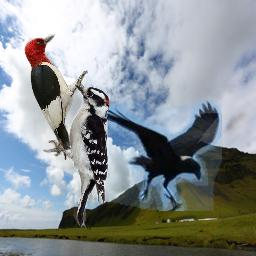Crow: (88, 100, 222, 211)
Woodpecker: (43, 82, 111, 228), (23, 33, 88, 160)
